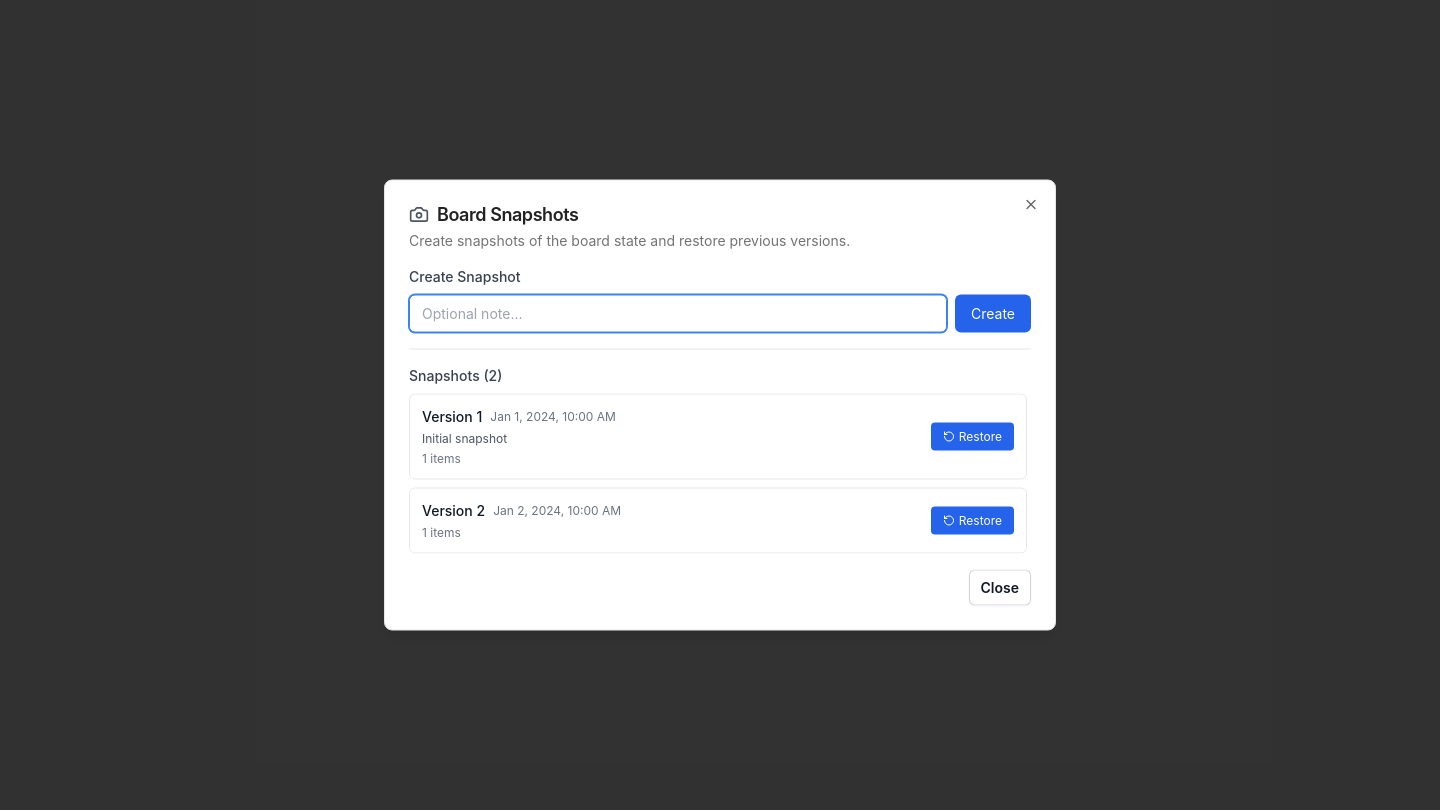
Test: BoardSnapshotsModal Component › Creating Snapshots › shows creating state
Expected: the text "Version 1" is shown, [422,406,482,426]
Click the button "Create" at (993, 314), box [955,294,1031,332]
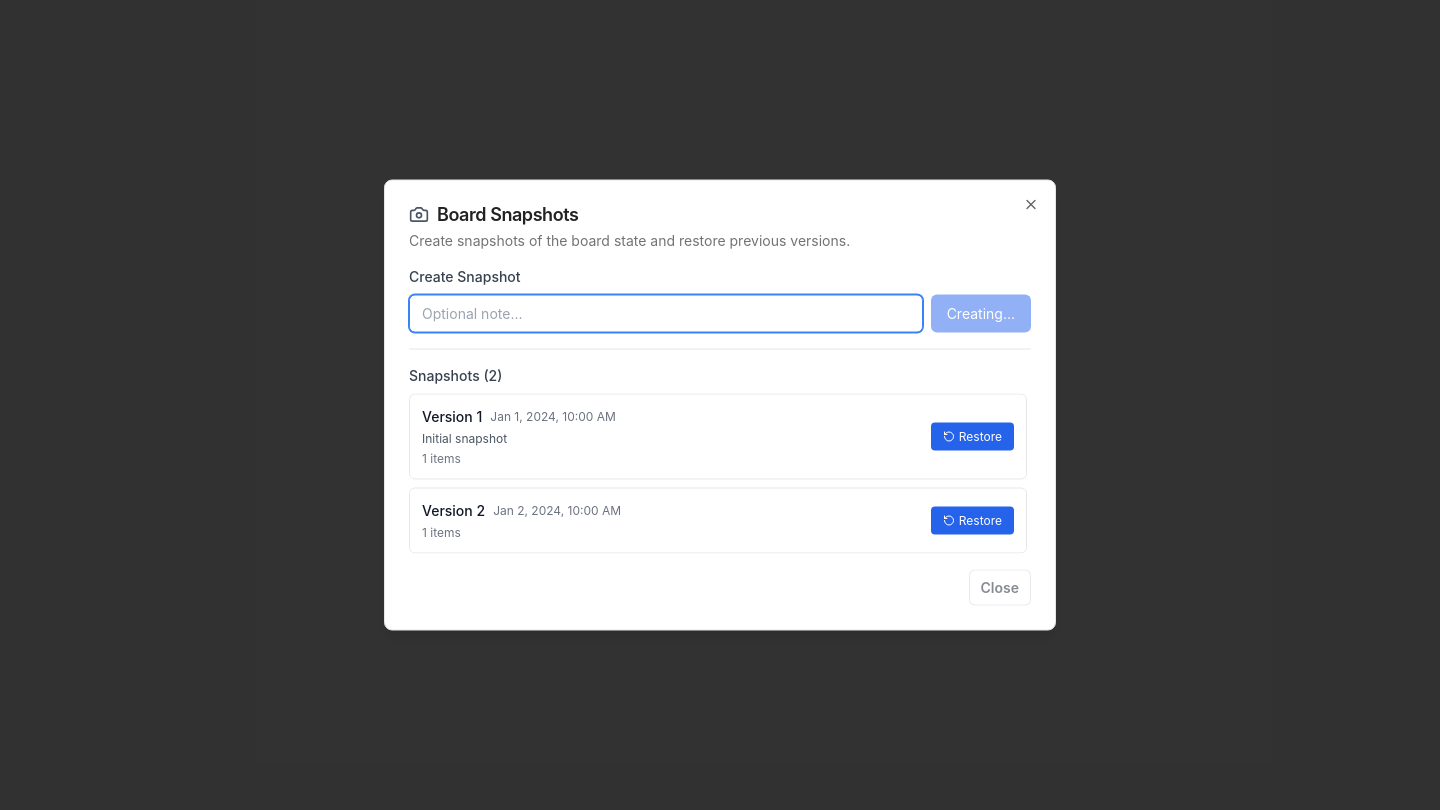
Now the button "Creating..." is shown, box [931,294,1031,332]
